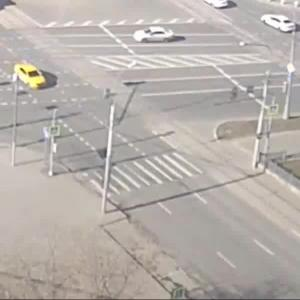car: (11, 62, 50, 89), (132, 28, 180, 46), (262, 14, 297, 35)
